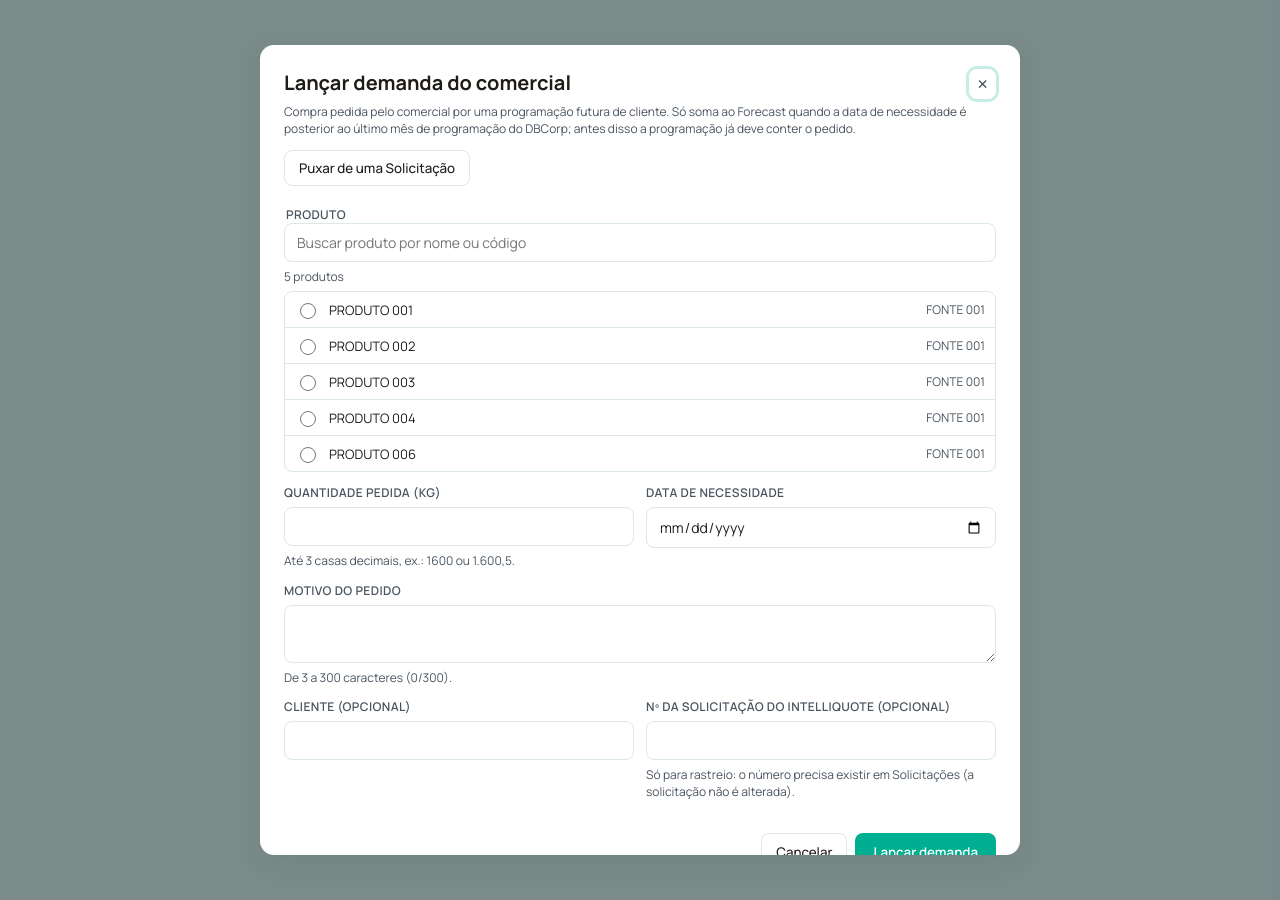
ForecastPuxarSolicitacao - painel › C5: erro 403 mostra a mensagem, sem retentativa, e o formulario segue habilitado
Expected: the text "5 produtos" is shown, [284,268,344,285]
Click the button "Puxar de uma Solicitação" at (377, 168), box [284,150,470,186]
(page scrolled)
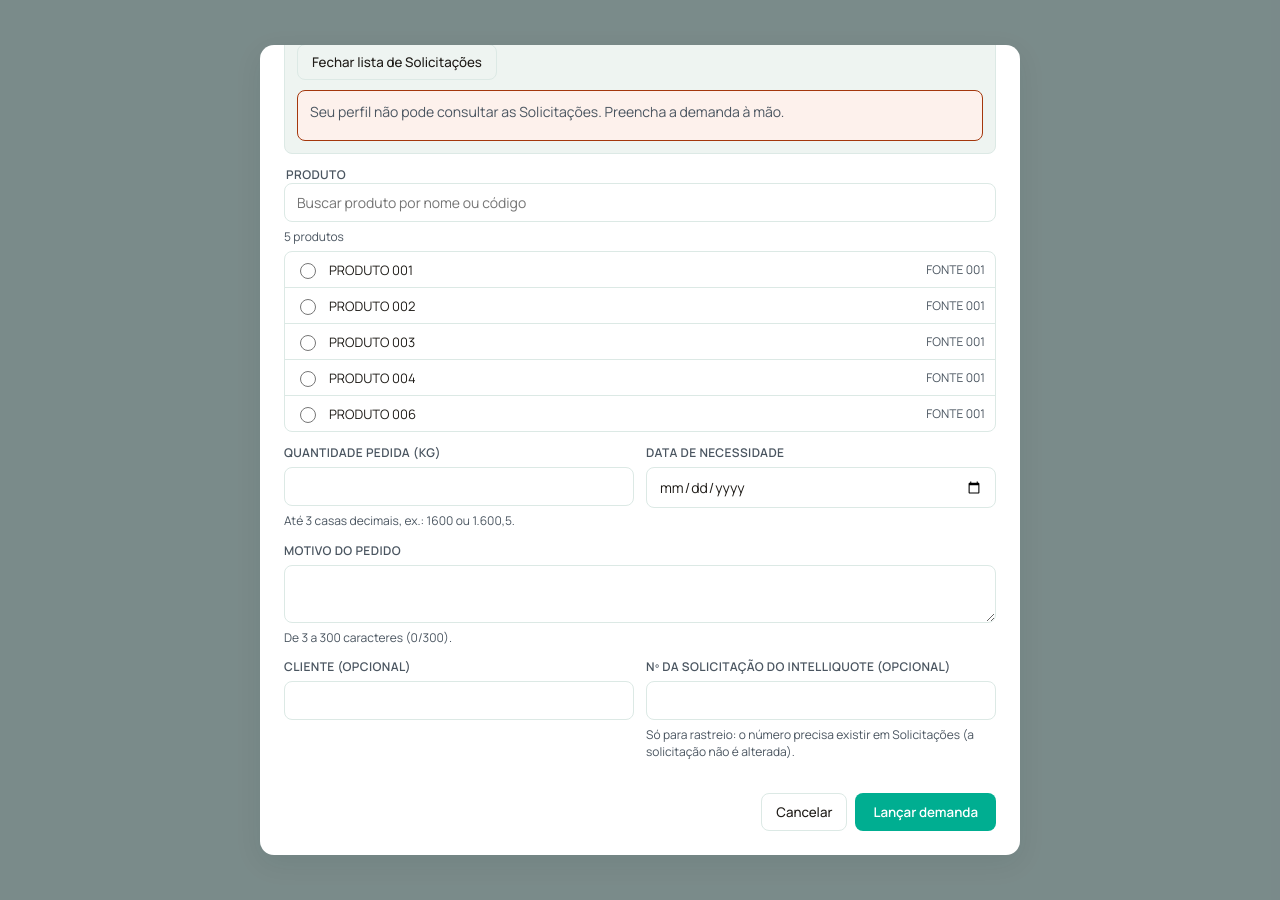
Expected: the field labelled "Quantidade pedida (kg)" is enabled, [284,467,634,506]
Now the message "Seu perfil não pode consultar as Solicitações. Preencha a demanda à mão." is shown, box [297,90,983,141]
